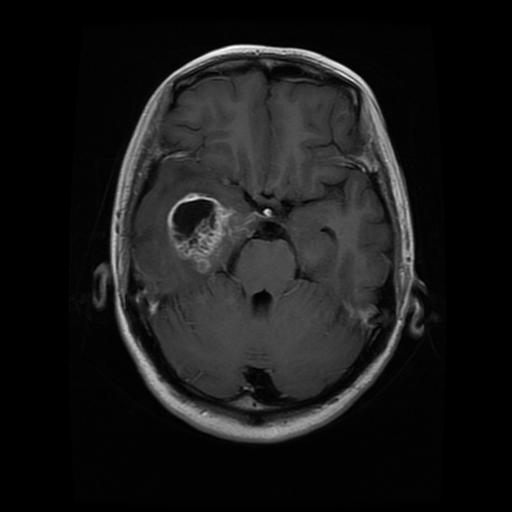Gliomia_tumour: (165, 190, 260, 275)
